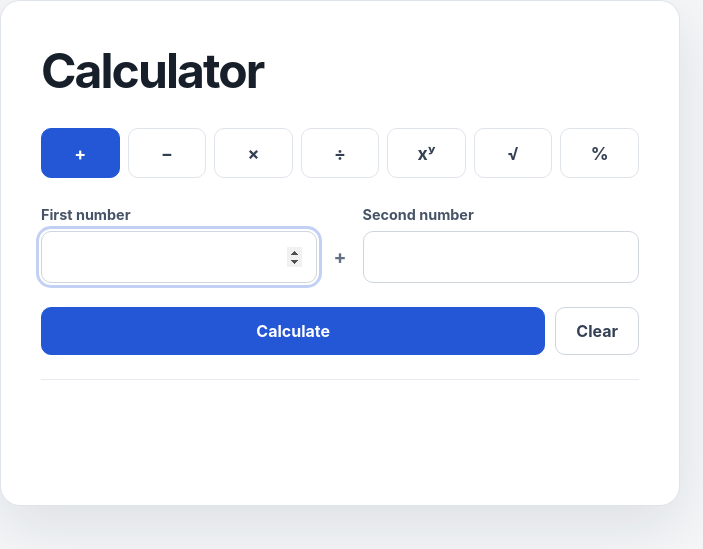
Test case: Calculator › sends only one operand for square root
Click the button named "Square root" at (513, 153), box [474, 128, 552, 178]
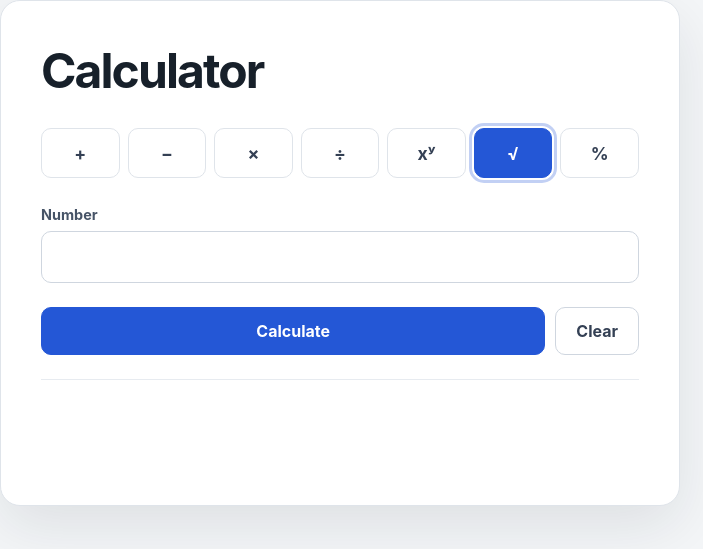
Type "81" into the number field labelled "Number" at (340, 257), box [41, 231, 639, 283]
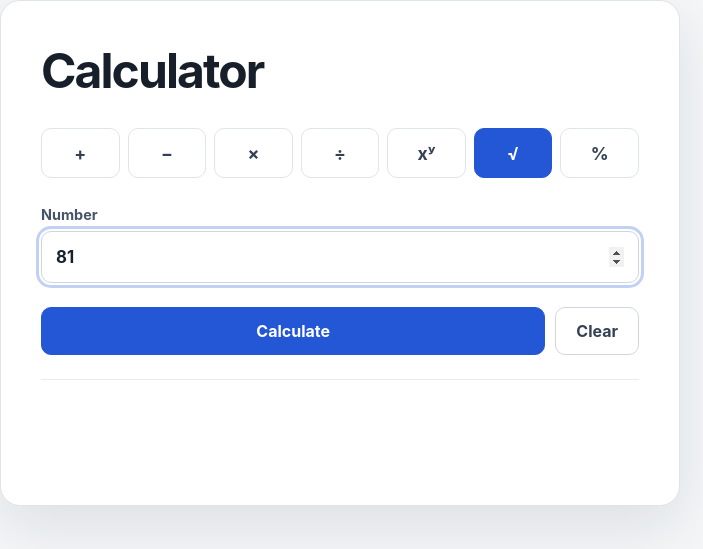
Click the button "Calculate" at (293, 331), box [41, 307, 545, 355]
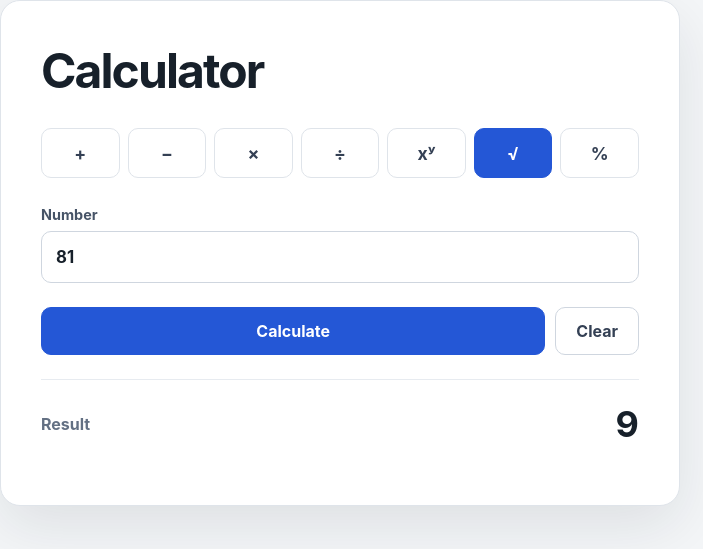
Result: the text "9" is shown at [616, 402, 639, 446]
